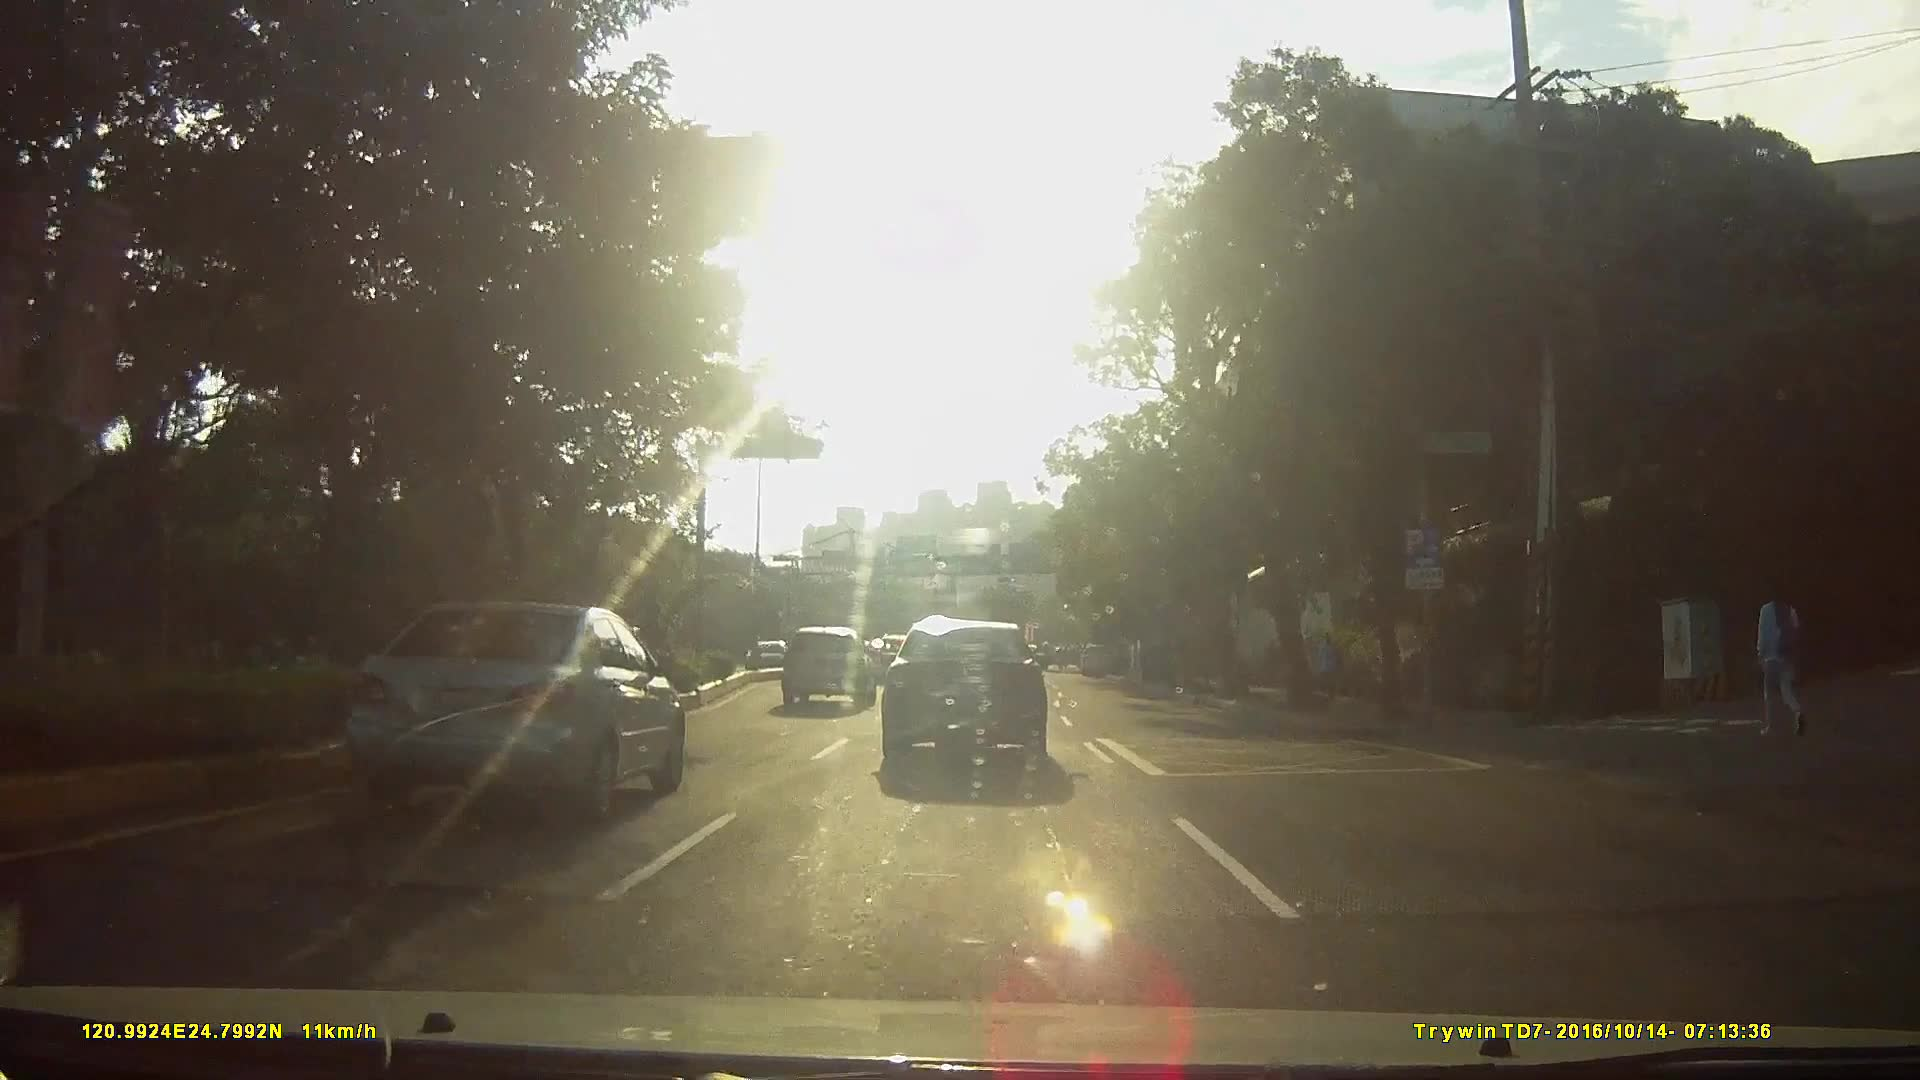pedestrian: (1751, 571, 1816, 742)
vehicle: (347, 598, 684, 814), (871, 618, 1062, 777), (777, 620, 876, 704), (731, 633, 780, 668), (1074, 639, 1110, 674)
